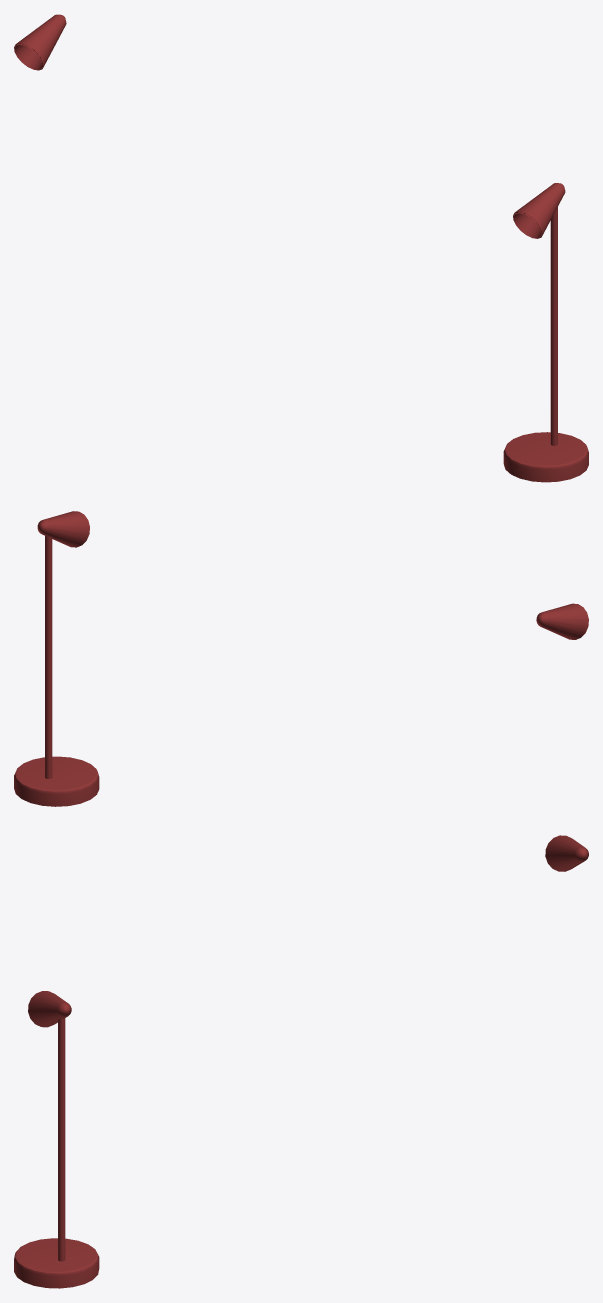
File: Lamp.fbx
The picture shows the model from 3 angles, top to bottom: view 1: azimuth 30°, elevation 25°; view 2: azimuth 210°, elevation 25°; view 3: azimuth 270°, elevation 25°; orthographic projection.
Visible parts, largest first — view 1: pCylinder18, pCylinder17, pCylinder16, pCylinder19; view 2: pCylinder18, pCylinder17, pCylinder19, pCylinder16; view 3: pCylinder18, pCylinder17, pCylinder19, pCylinder16.
Part boxes in pixels (box(x1,y1,x2,y2)): pCylinder18: box(503, 432, 588, 482); pCylinder17: box(550, 207, 557, 445); pCylinder16: box(513, 183, 565, 238); pCylinder19: box(14, 14, 66, 70); pCylinder18: box(14, 756, 99, 806); pCylinder17: box(45, 536, 52, 778); pCylinder19: box(536, 603, 588, 639); pCylinder16: box(37, 511, 89, 547); pCylinder18: box(14, 1238, 99, 1288); pCylinder17: box(58, 1018, 65, 1261); pCylinder19: box(545, 835, 588, 871); pCylinder16: box(28, 991, 71, 1027).
Bounding box in the file's own units: 2.32 × 2.24 × 3.72.
